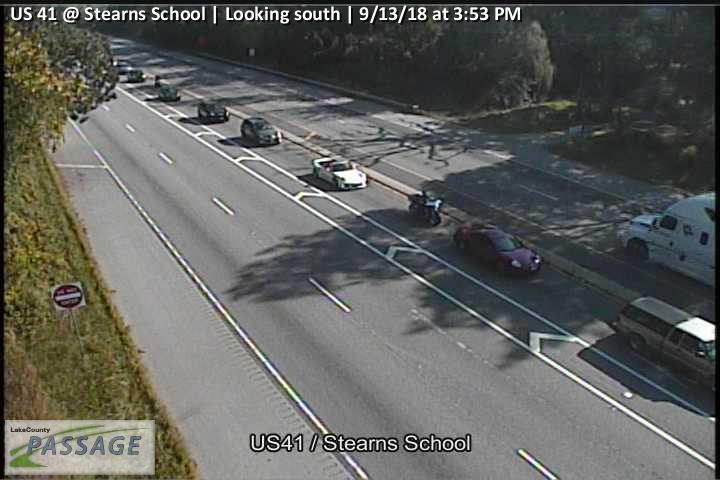Motorbike: (407, 189, 442, 225)
SUV: (310, 155, 367, 190), (240, 116, 281, 148)
Sedan: (453, 220, 544, 281), (197, 100, 229, 123), (157, 85, 181, 99), (125, 69, 147, 82)
Truck: (611, 293, 716, 393), (616, 190, 716, 287)
